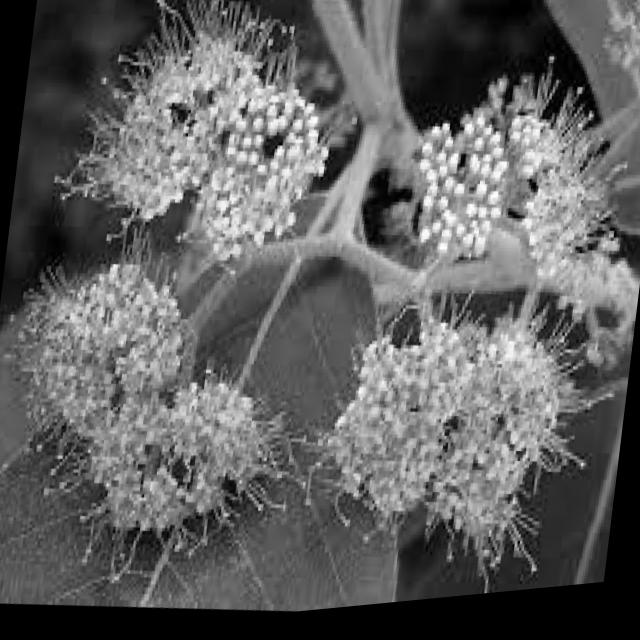Flower: (3, 262, 306, 590), (311, 286, 595, 616), (385, 64, 633, 312)
